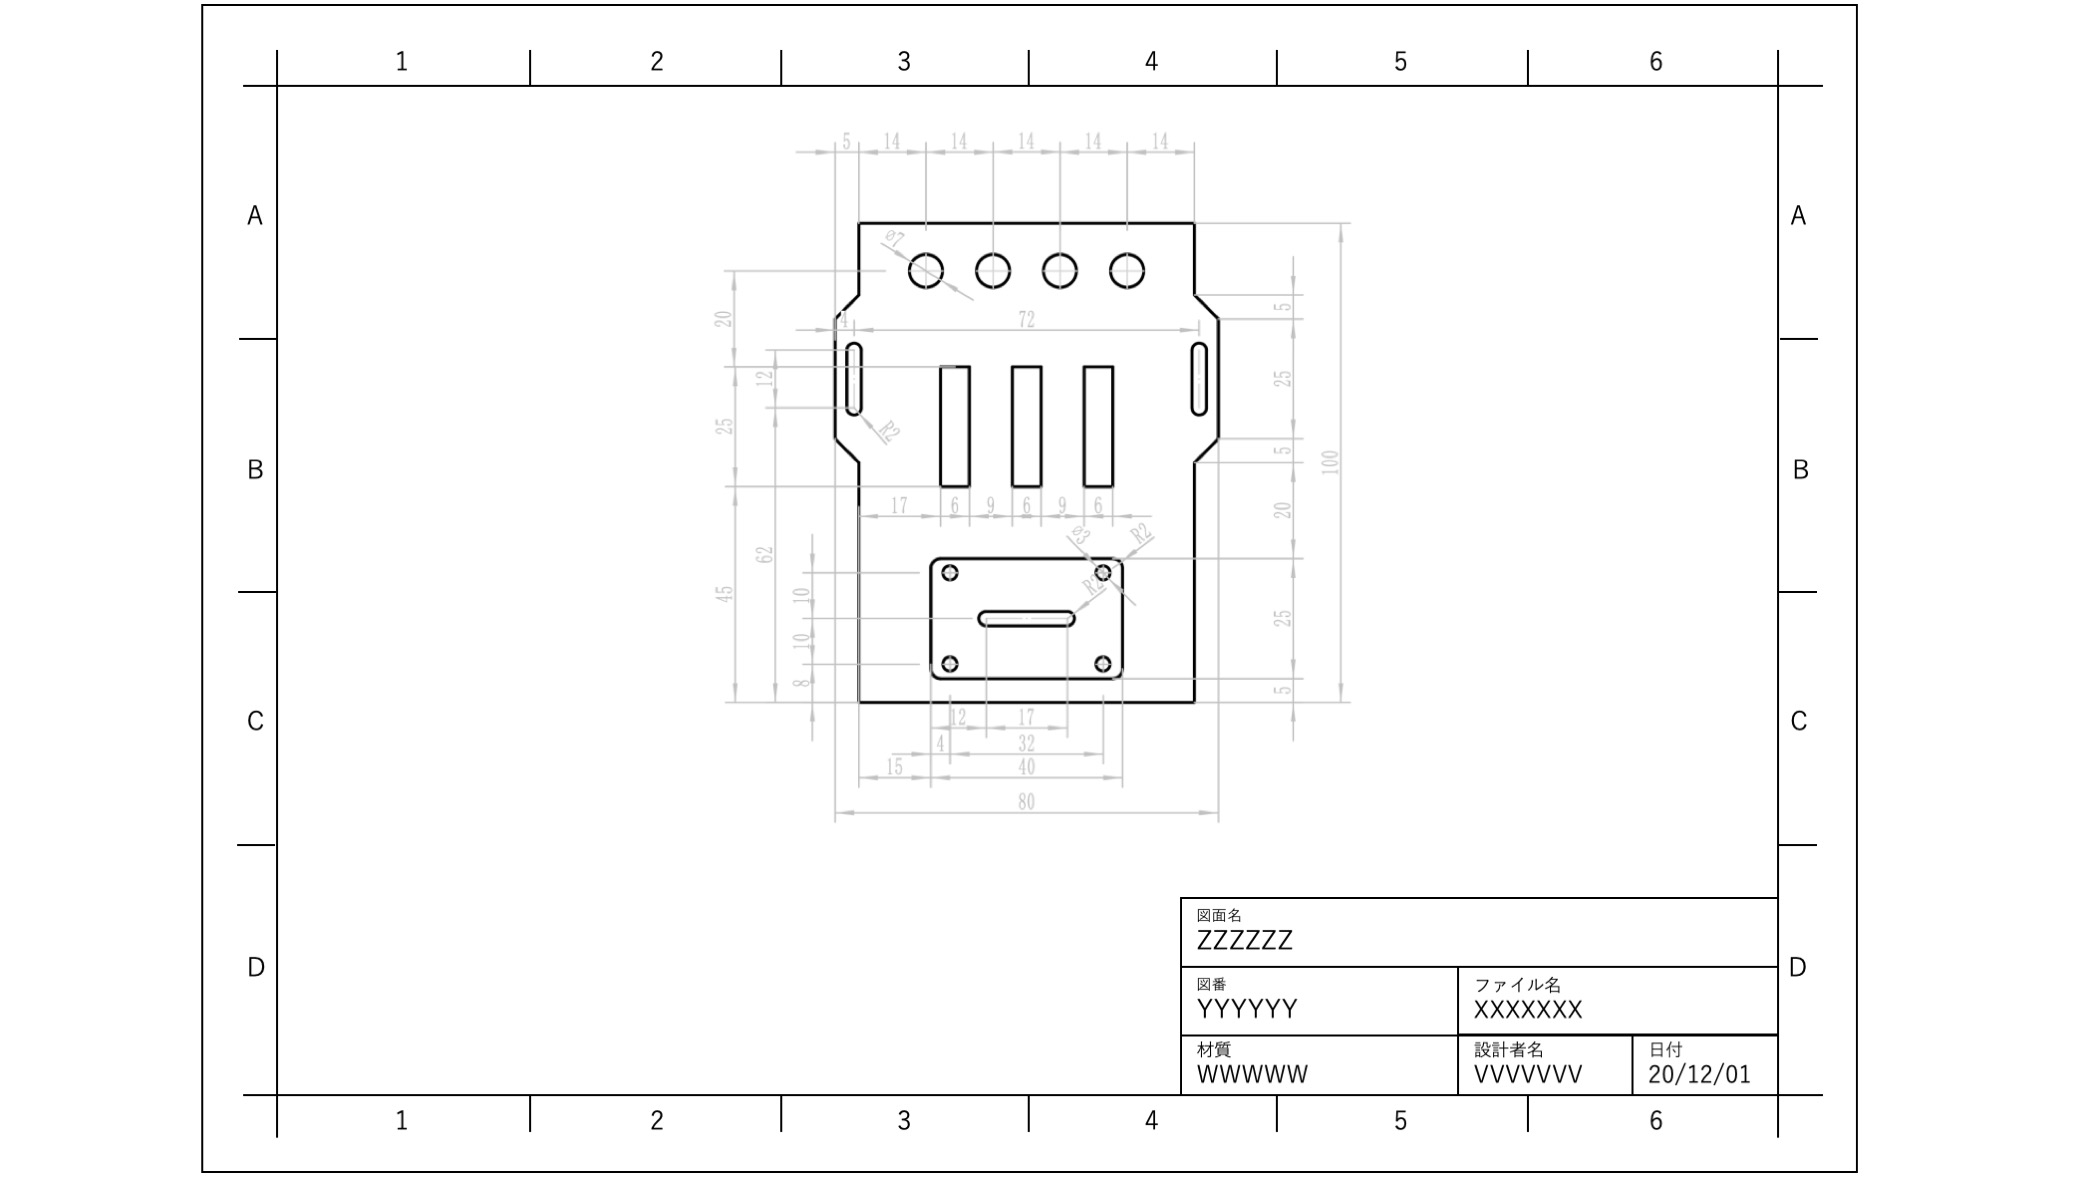circle: (901, 247, 948, 291), (971, 247, 1014, 290), (1038, 249, 1082, 291), (1108, 249, 1147, 290), (1087, 554, 1113, 587), (1087, 650, 1115, 678), (937, 557, 961, 587), (935, 649, 961, 673)
rectangle: (1077, 355, 1121, 496), (1002, 359, 1047, 495), (933, 359, 972, 495)
round_rectangle: (971, 601, 1085, 632), (1184, 335, 1212, 430), (839, 340, 865, 420)
